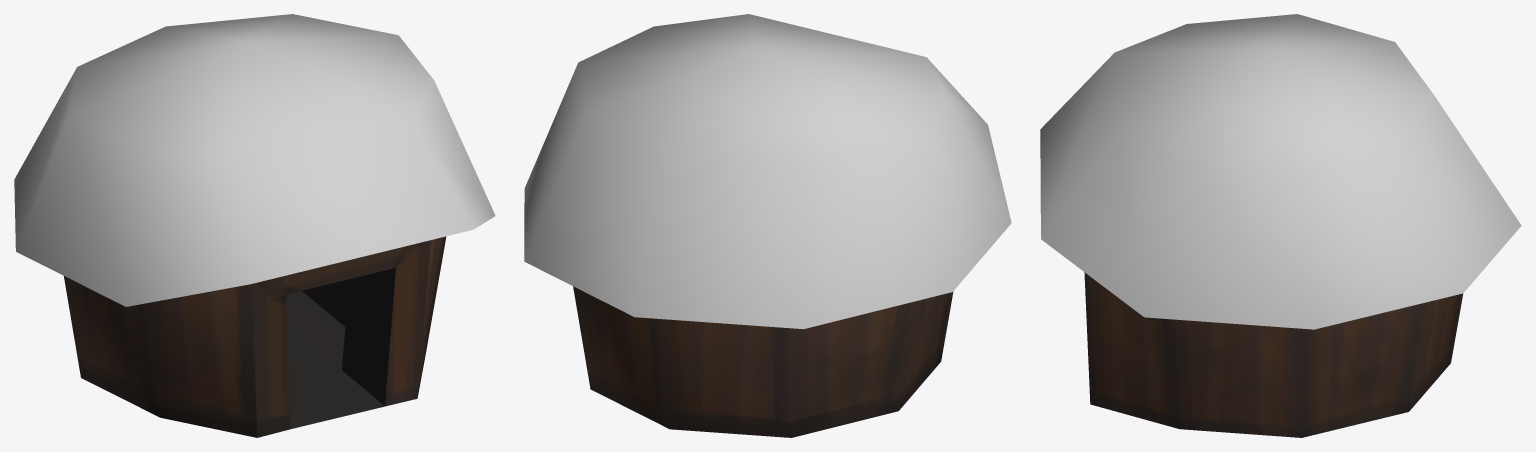
File: Hut.FBX
3 views of the same model, side by side, from view 1: azimuth 30°, elevation 25°; view 2: azimuth 150°, elevation 25°; view 3: azimuth 270°, elevation 25° (orthographic).
Parts seen in each view (by area): view 1: Sphere001; view 2: Sphere001; view 3: Sphere001.
Boxes of the visible parts, <box> form: Sphere001: <box>14,14,495,437</box>; Sphere001: <box>524,14,1011,437</box>; Sphere001: <box>1040,14,1521,437</box>.
Bounding box in the file's own units: 97.2 × 68.55 × 95.42.
